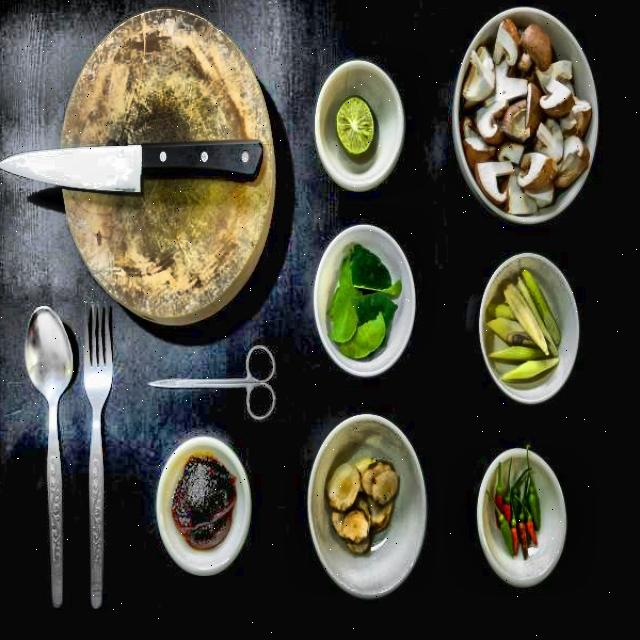knife: (0, 120, 275, 200)
